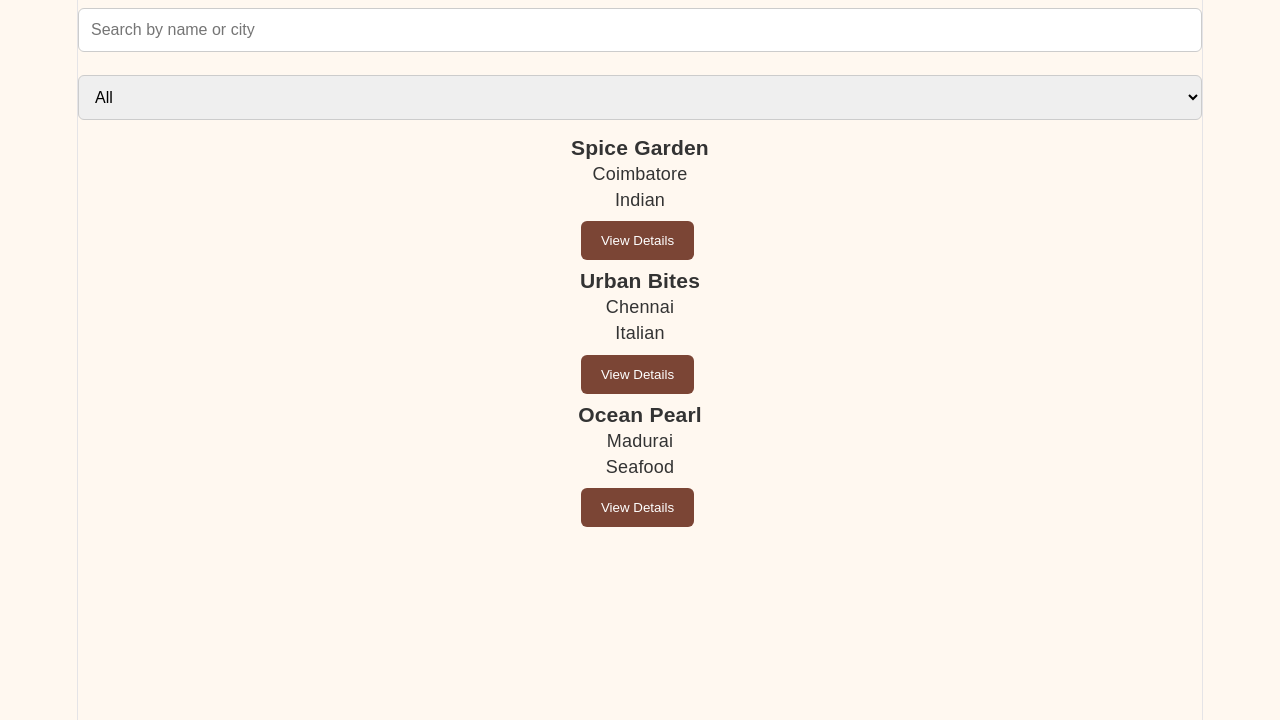
Test case: Experiment 1: Restaurant Reservation Testing › b) Show message when no restaurants match
The width and height of the screenshot is (1280, 720).
Type "Unknown Place" into the field named "Search restaurants" at (640, 30), box [78,8,1202,52]
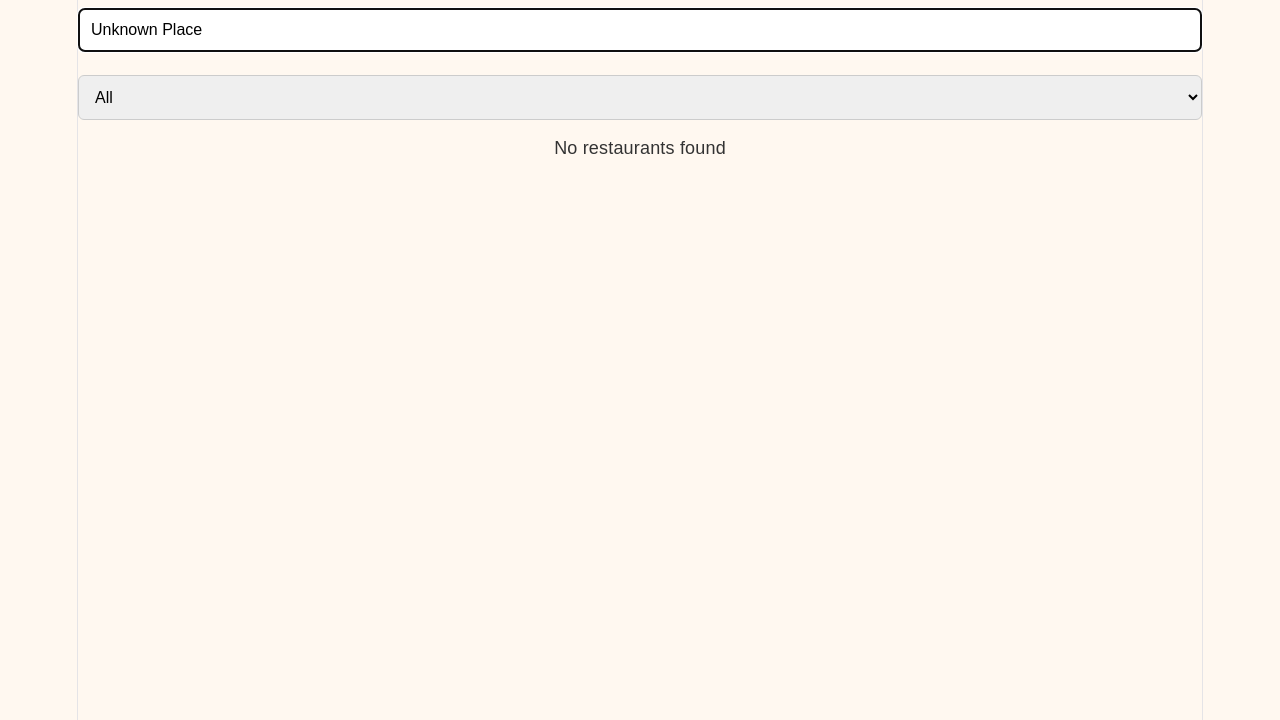
Expected: the text "No restaurants found" is shown, [554,138,726,158]
